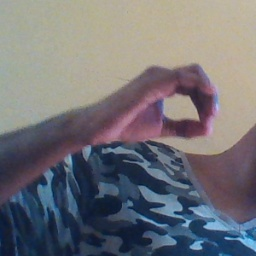O: (97, 59, 221, 145)
